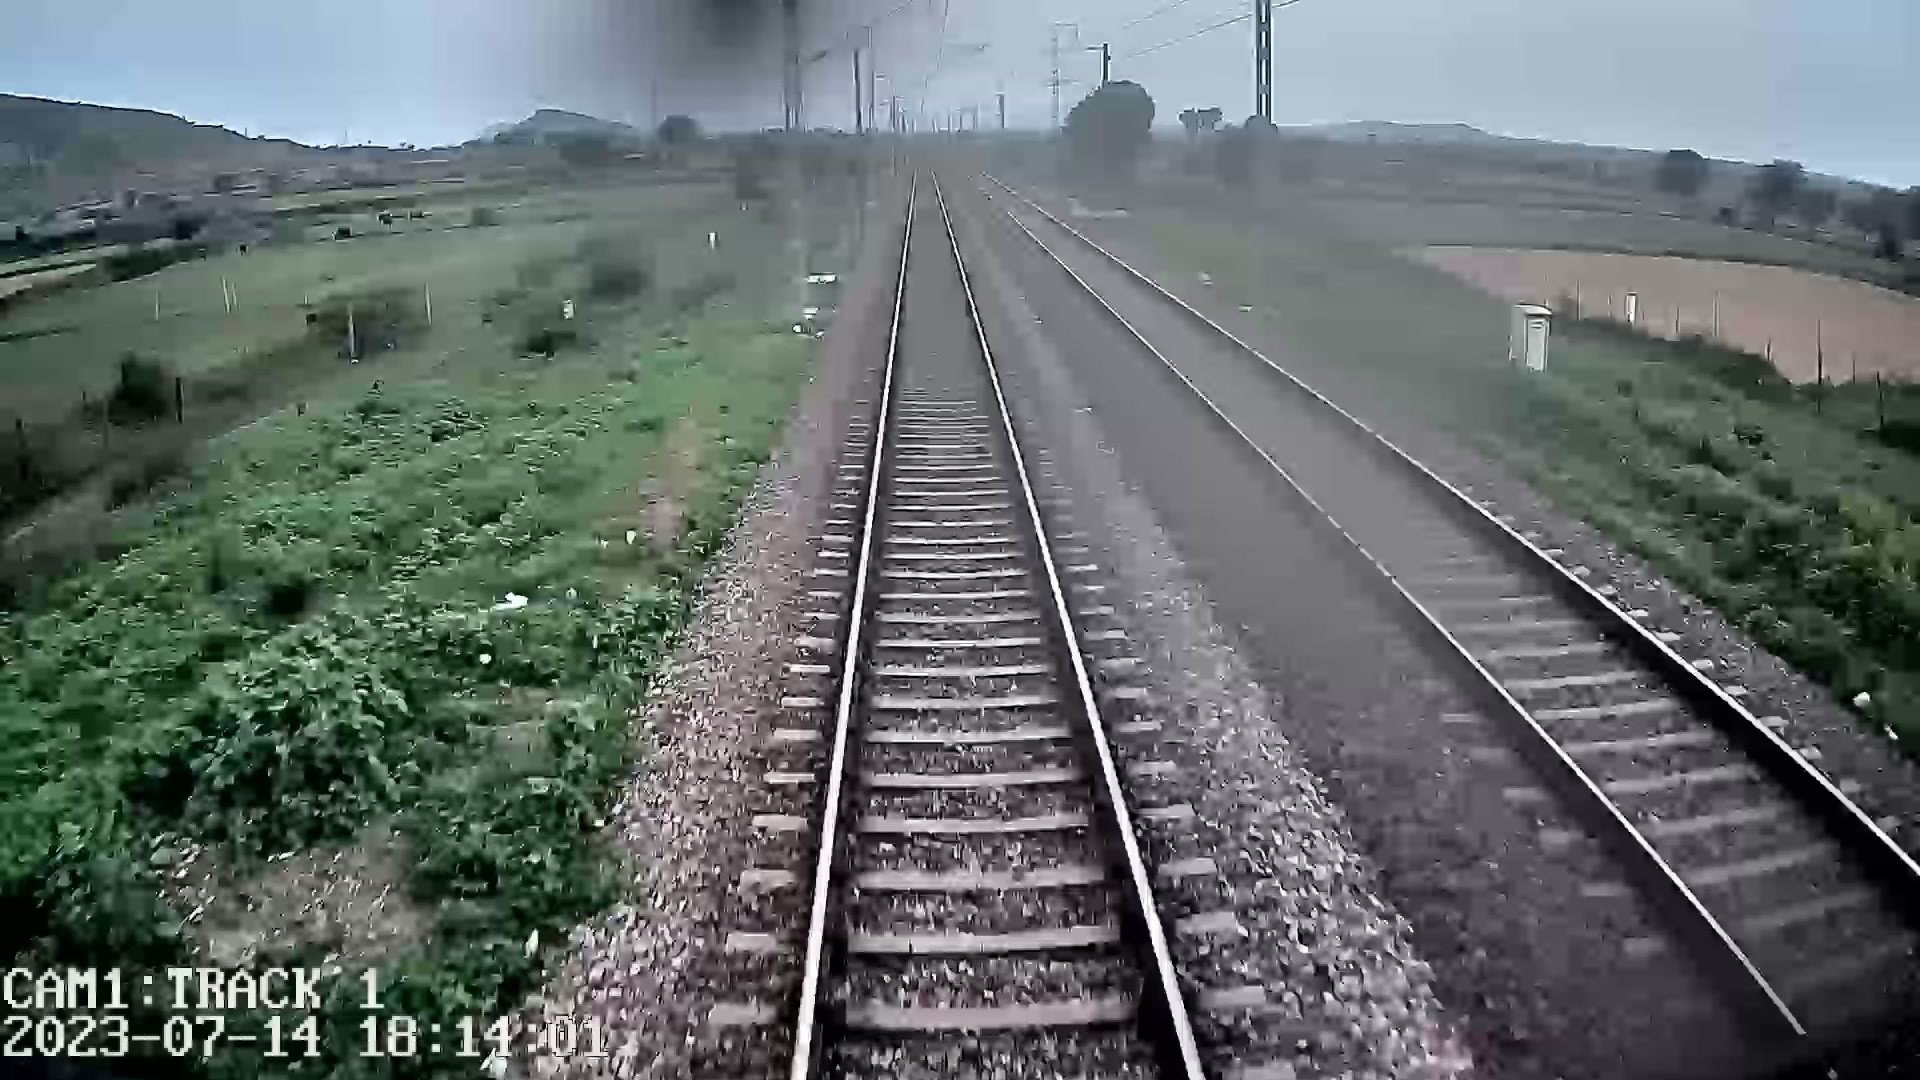track1: (798, 166, 1196, 1075)
track2: (1001, 201, 1919, 1028)
